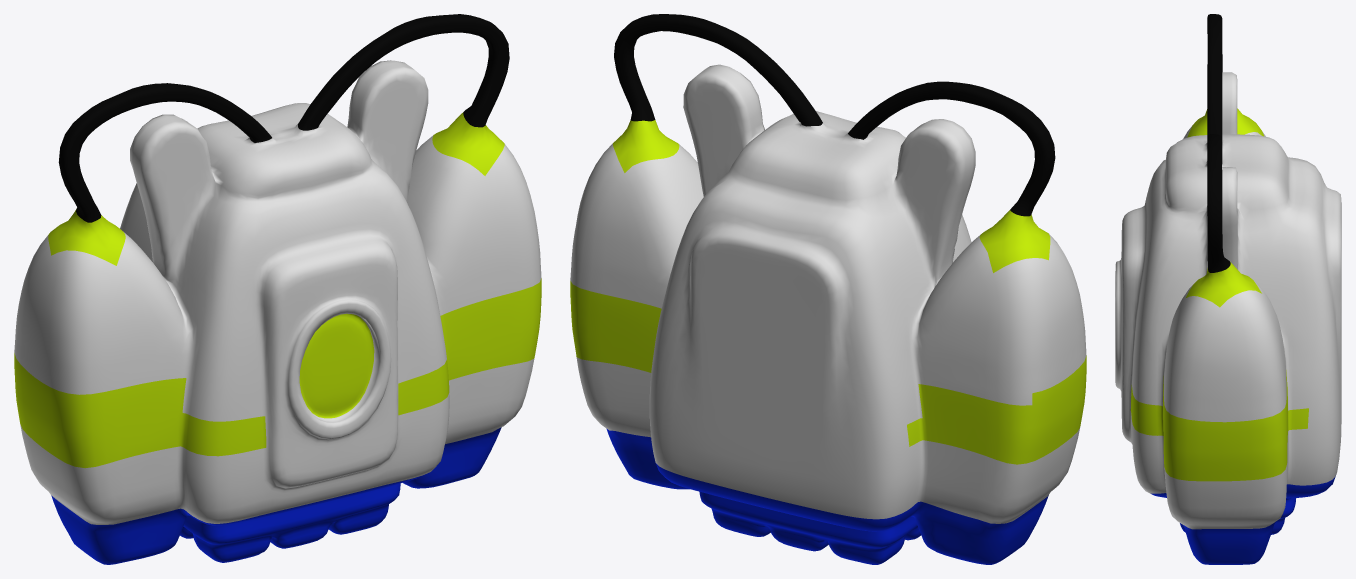
File: rocket.fbx
3 views of the same model, side by side, from view 1: azimuth 30°, elevation 25°; view 2: azimuth 150°, elevation 25°; view 3: azimuth 270°, elevation 25° (orthographic). The views are drawn at different scales.
Parts seen in each view (by area): view 1: model; view 2: model; view 3: model.
Boxes of the visible parts, box(x1,y1,x2,y2) form: model: box(14, 14, 541, 564); model: box(570, 14, 1086, 564); model: box(1115, 14, 1341, 564).
Bounding box in the file's own units: 190 × 180 × 88.42.
